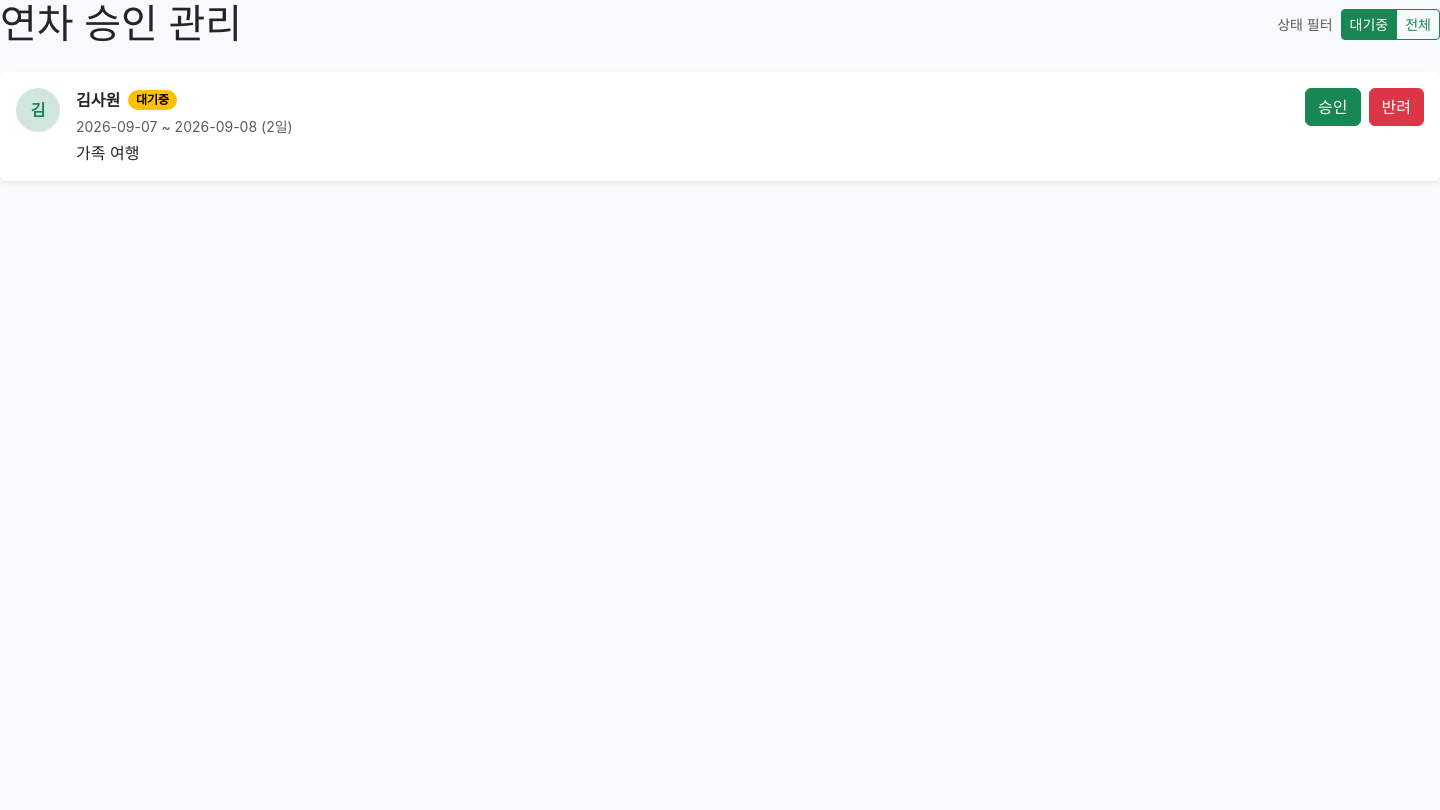
LeaveRequestsManagePage › 다른 사람 신청 건을 승인하면 확인 모달을 거쳐 목록에서 사라진다
The width and height of the screenshot is (1440, 810).
expect the text "김사원" is shown: met, box [76,88,120,112]
Click the button "승인": (1333, 107) [1305,88,1361,126]
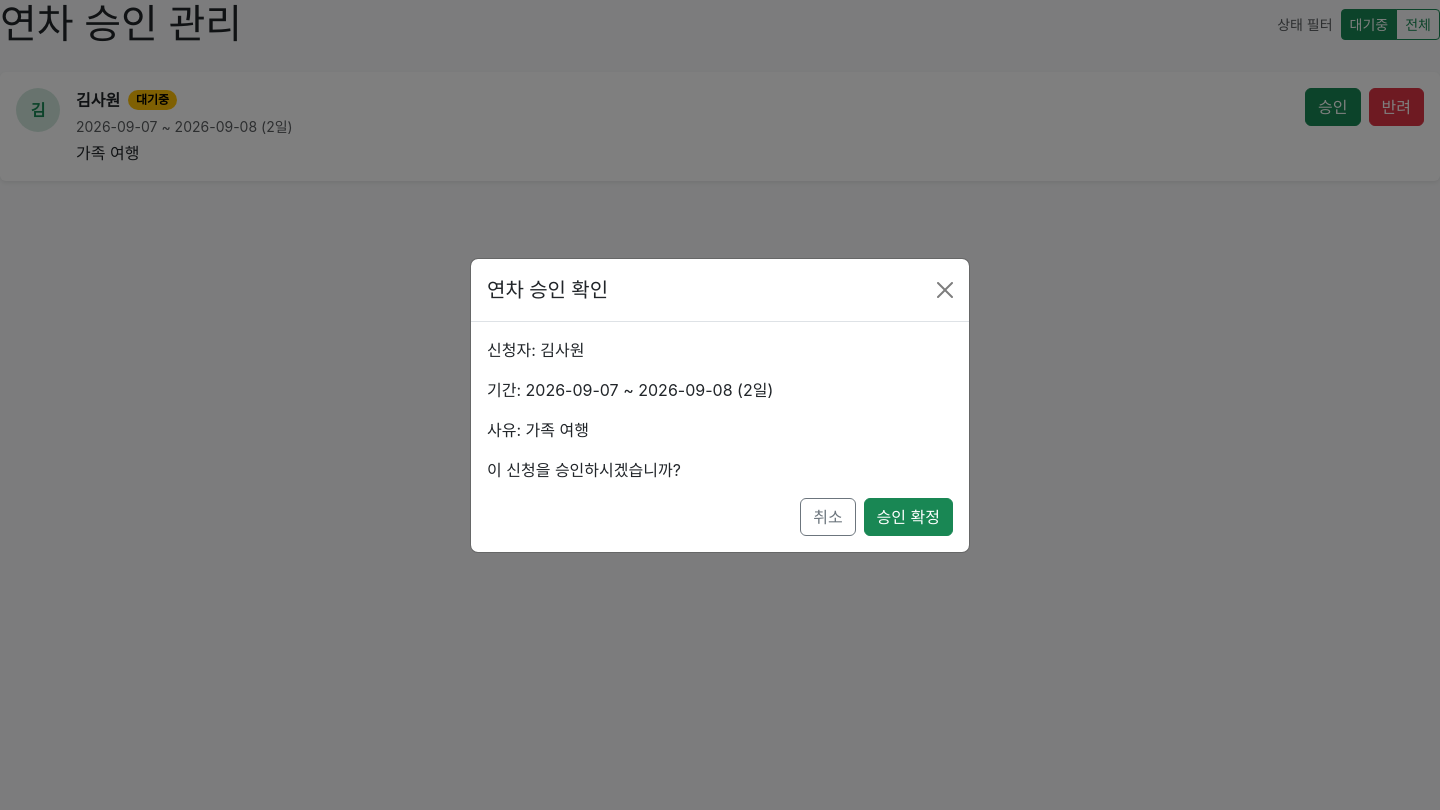
Click the button "승인 확정": (908, 516) [864,498,953,536]
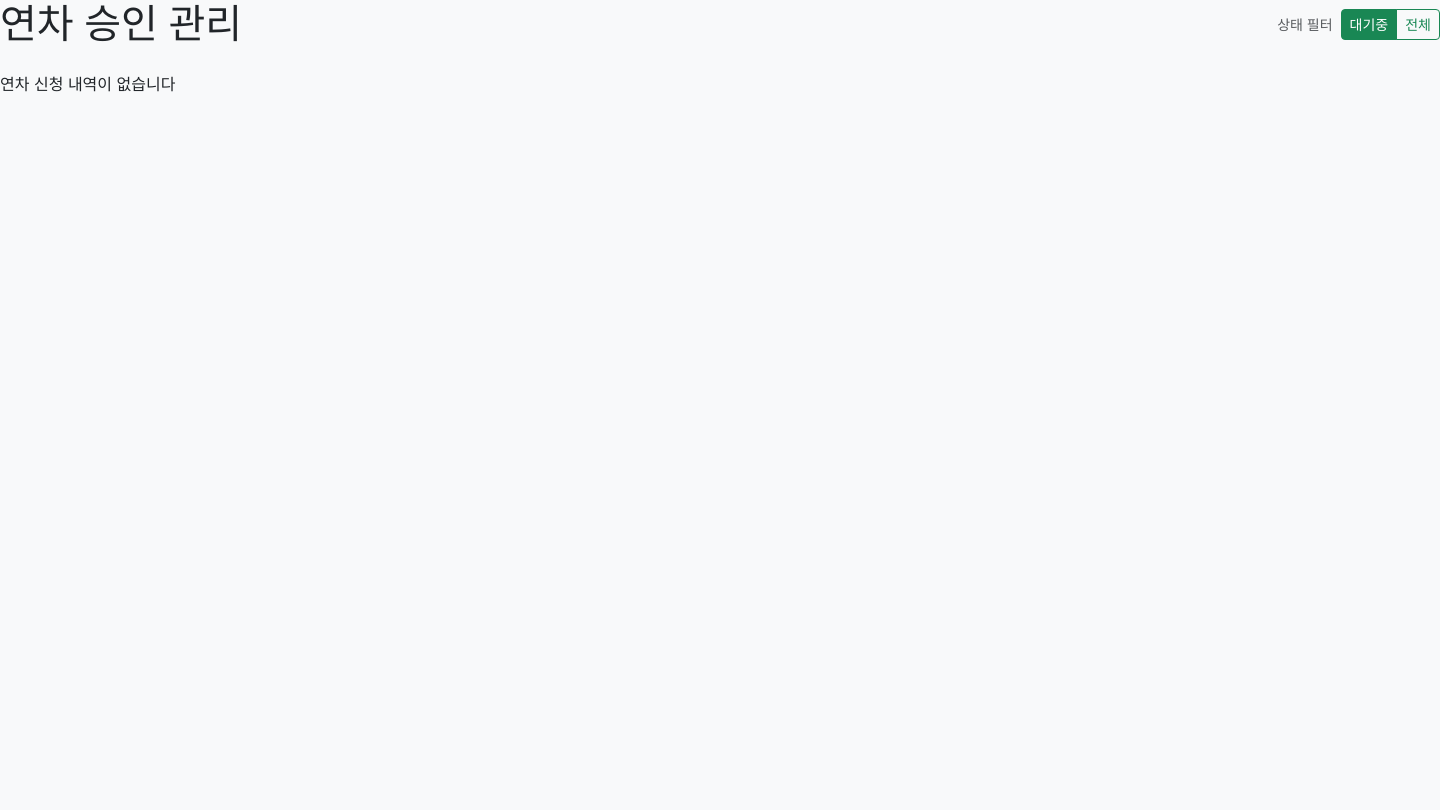
expect the text "김사원" is gone: met
